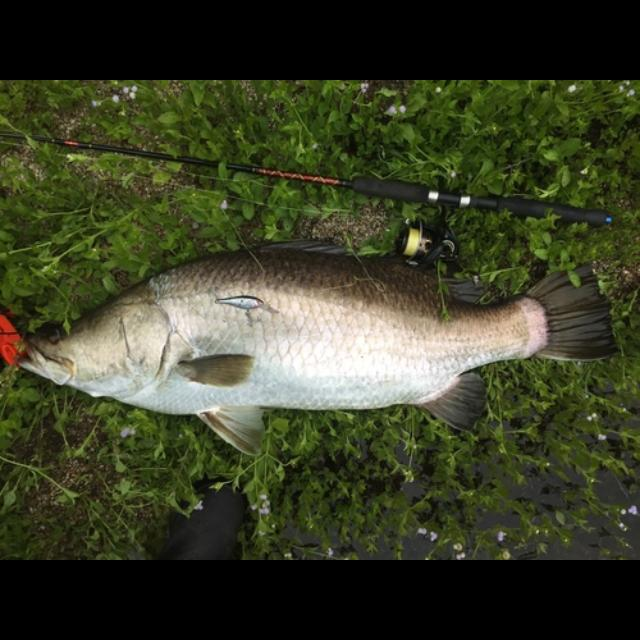Seabass: (14, 234, 614, 456)
